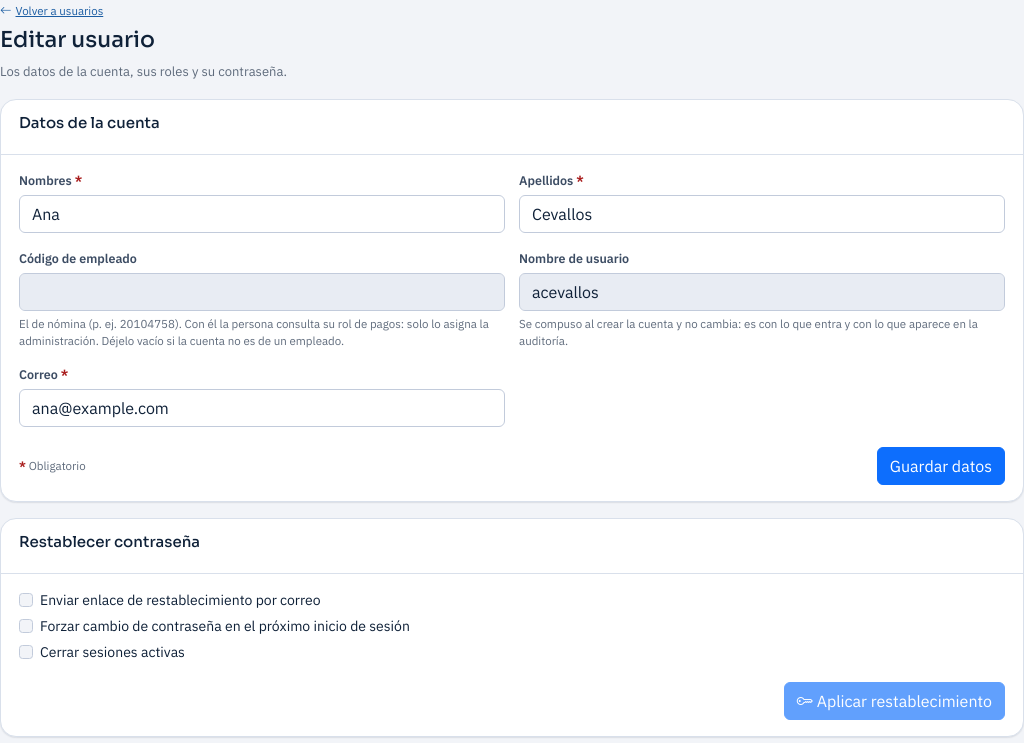
Restablecer la contraseña de otra persona › si falla, lo dice con el motivo del servidor
Expected: the heading "Restablecer contraseña" is shown, [19, 533, 200, 551]
What coordinates should you click on to do the following:
click the checkbox labelled "Enviar enlace de restablecimiento por correo"
I would click on:
 (26, 600)
Its box is [19, 593, 33, 607].
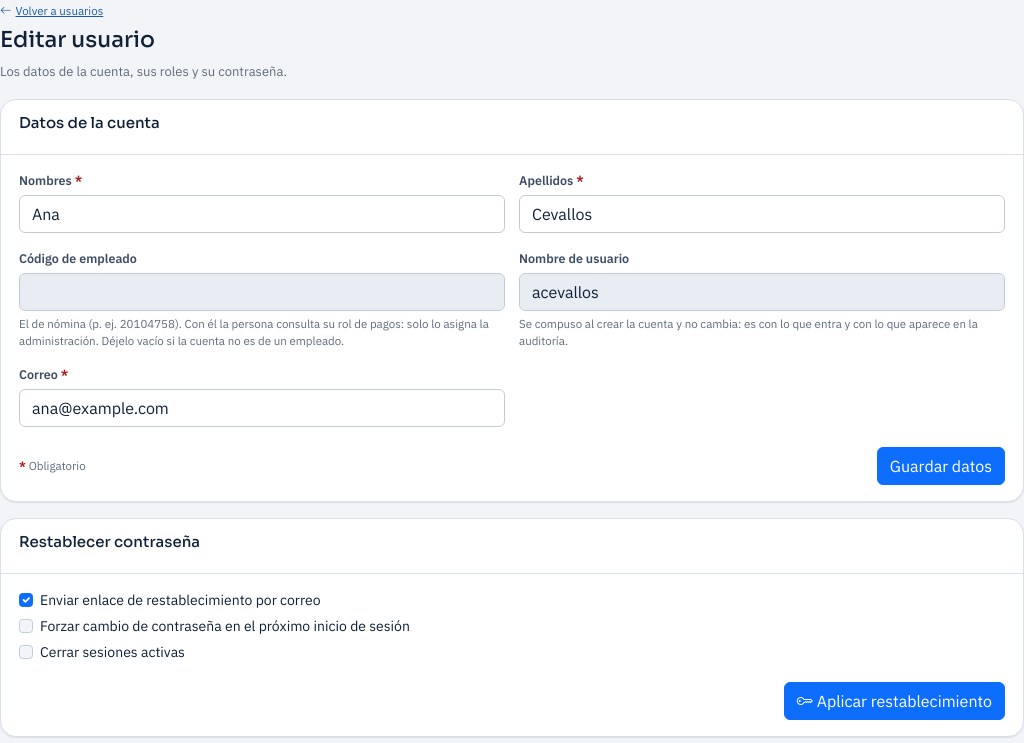
What coordinates should you click on to do the following:
click the button "Aplicar restablecimiento"
I would click on:
 (894, 701)
Its box is [784, 682, 1005, 720].
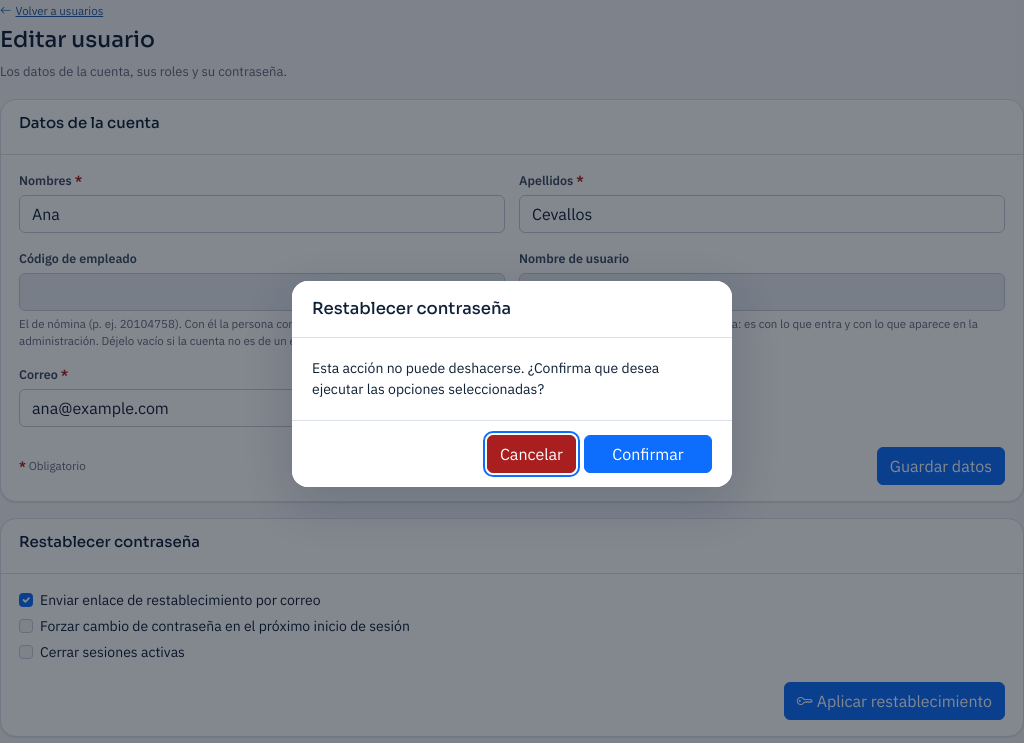
What coordinates should you click on to do the following:
click the button "Confirmar"
I would click on:
 (648, 454)
Its box is [584, 435, 712, 473].
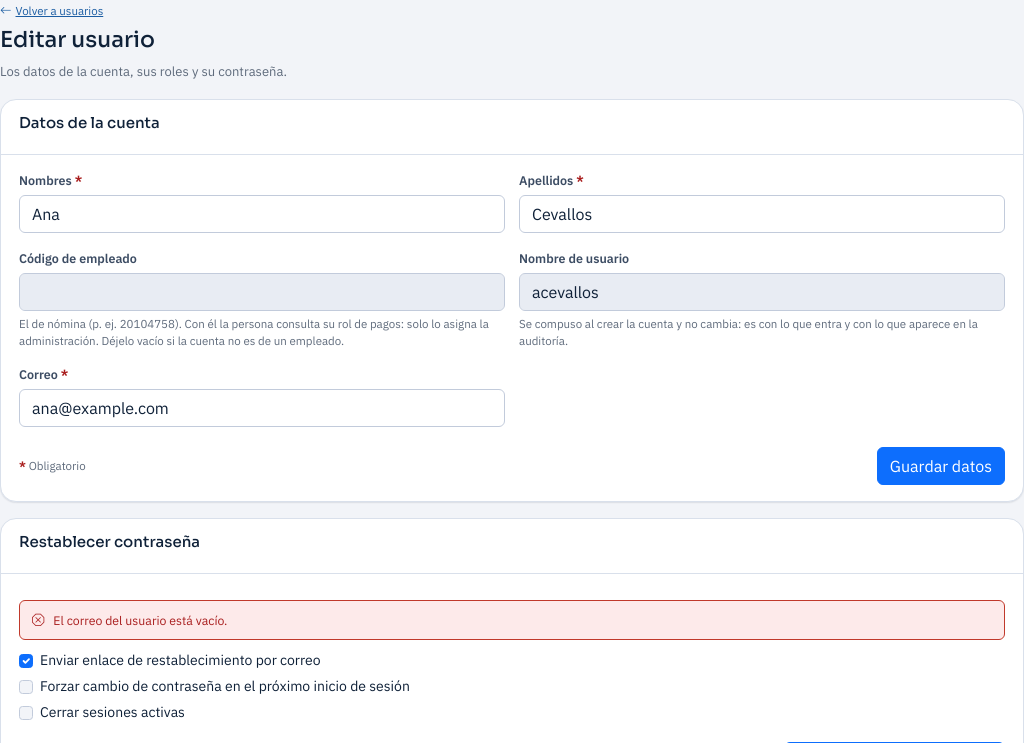
Expected: the text "El correo del usuario está vacío." is shown, [19, 600, 1005, 640]
